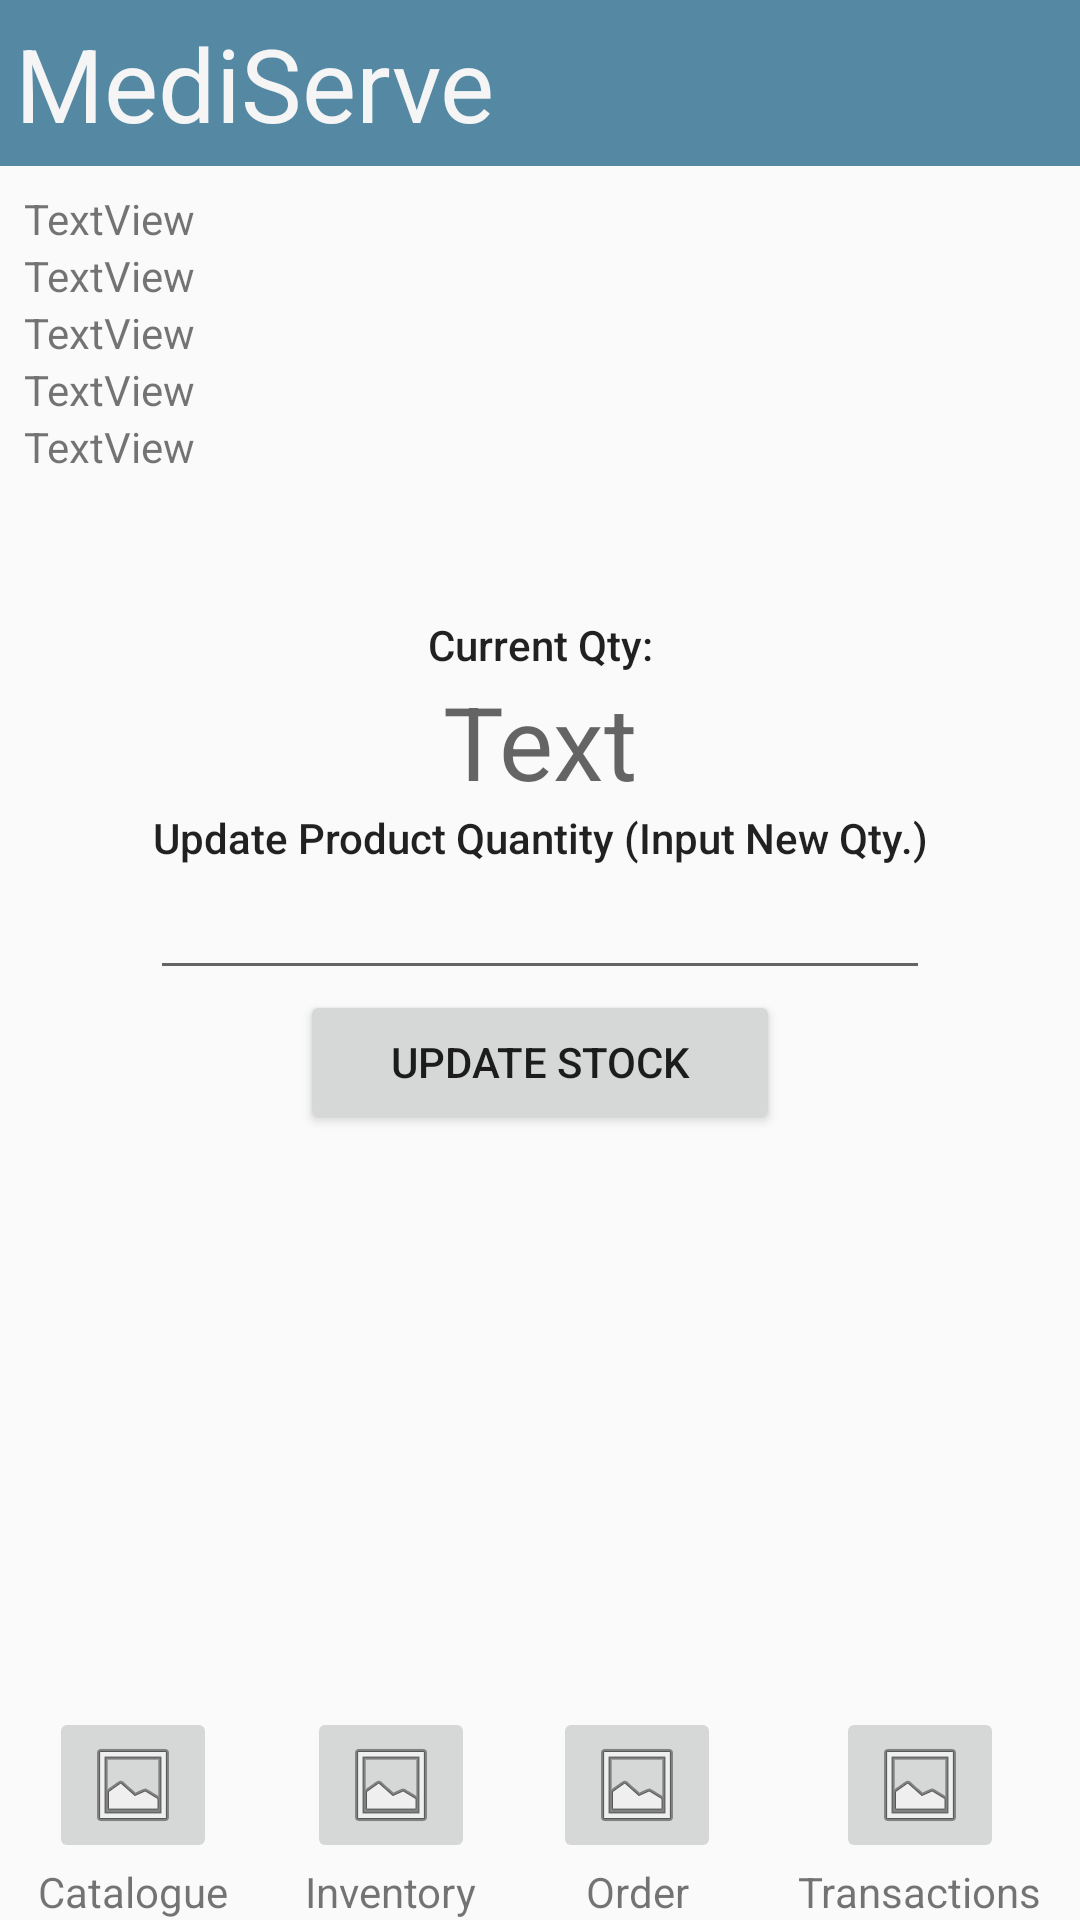

Icons on this 1080×1920 Android screen, each with the point to tap as (x=x, y=y):
gallery: (x=133, y=1785), (x=391, y=1785), (x=637, y=1785), (x=920, y=1785)
